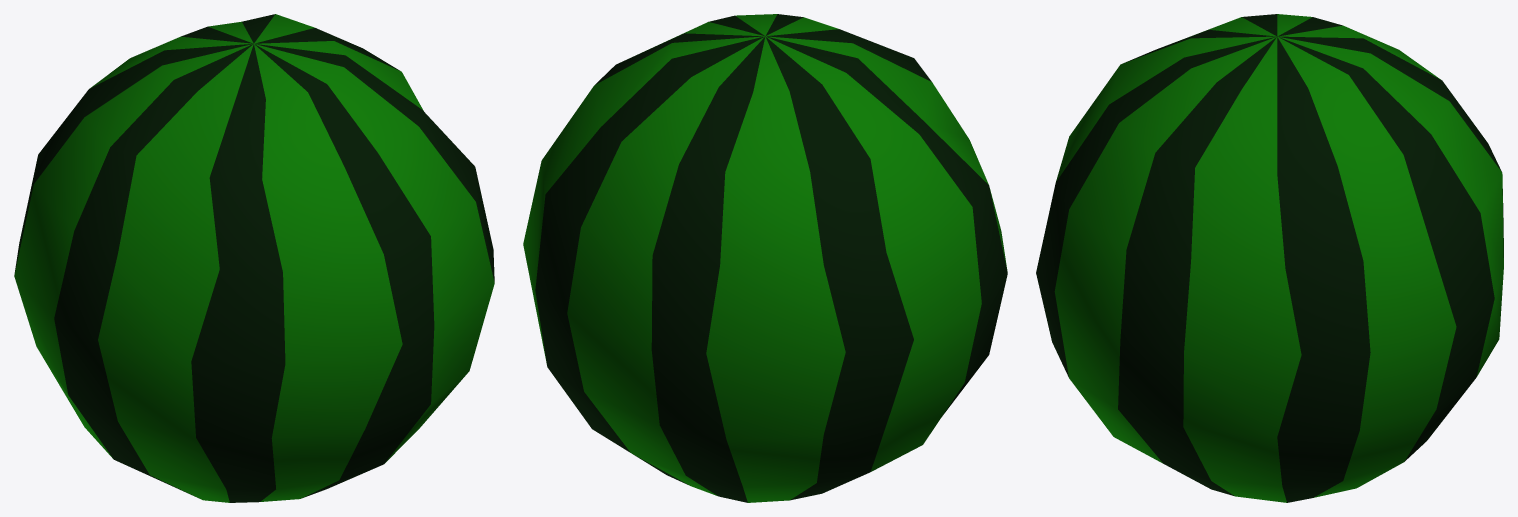
File: watermelon.fbx
3 renders of one model, left to right at view 1: azimuth 30°, elevation 25°; view 2: azimuth 150°, elevation 25°; view 3: azimuth 270°, elevation 25°, orthographic.
Visible parts, largest first — view 1: Sphere001; view 2: Sphere001; view 3: Sphere001.
Boxes of the visible parts, x1,y1,x2,y2 form: Sphere001: [14, 14, 494, 502]; Sphere001: [523, 14, 1007, 502]; Sphere001: [1036, 14, 1503, 502].
Size of the model in its own units: 48.42 by 49.94 by 47.94.
